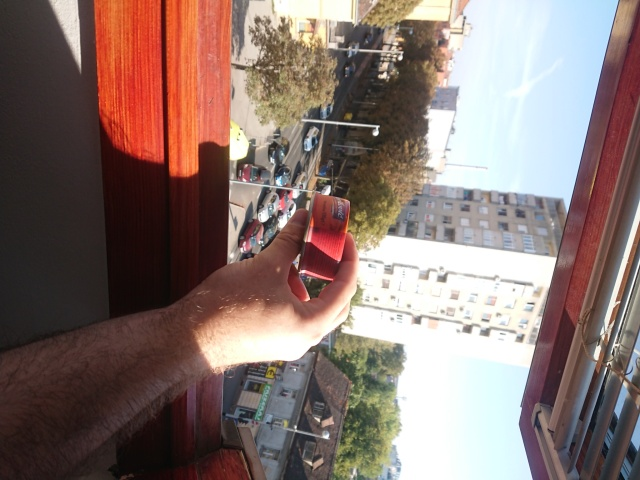Gavrilovic Pork Liver Pate 100g: (294, 187, 352, 285)
